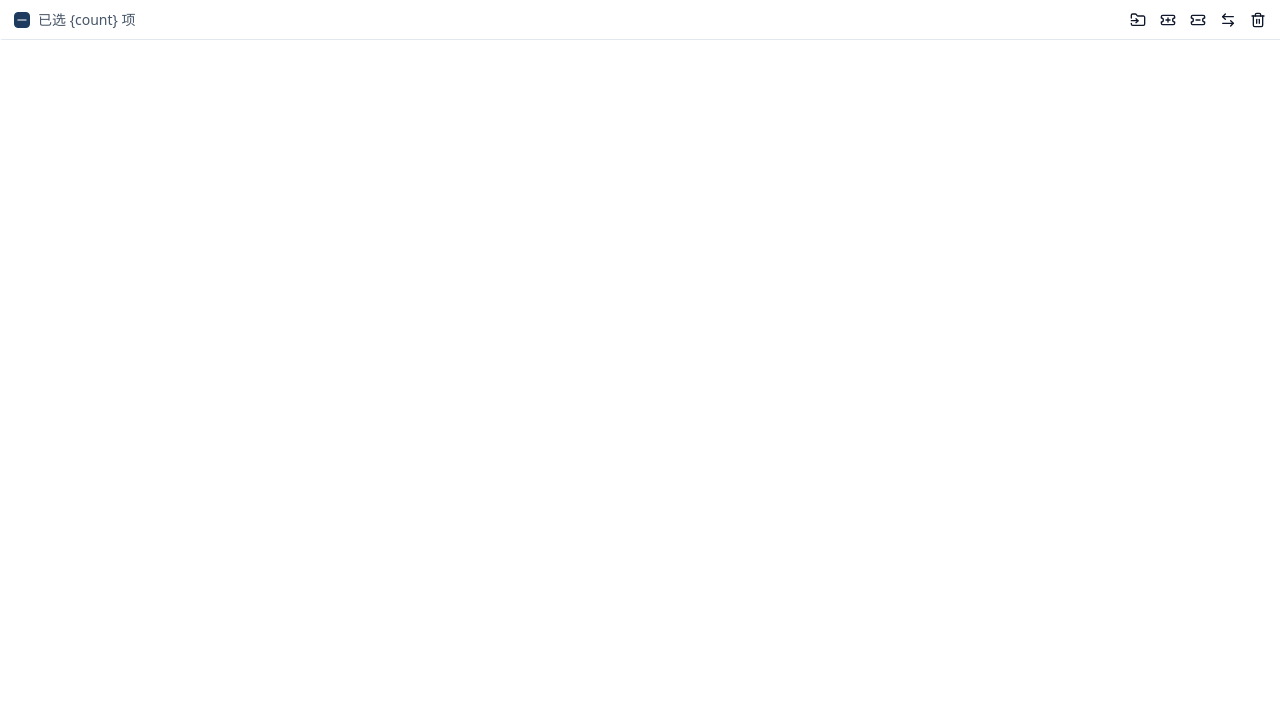
it: 批量删除确认 › 点取消或按 Esc 关闭确认框, 条目与勾选都保留
Click the button named "删除选中的条目": (1258, 20) [1244,6,1272,34]
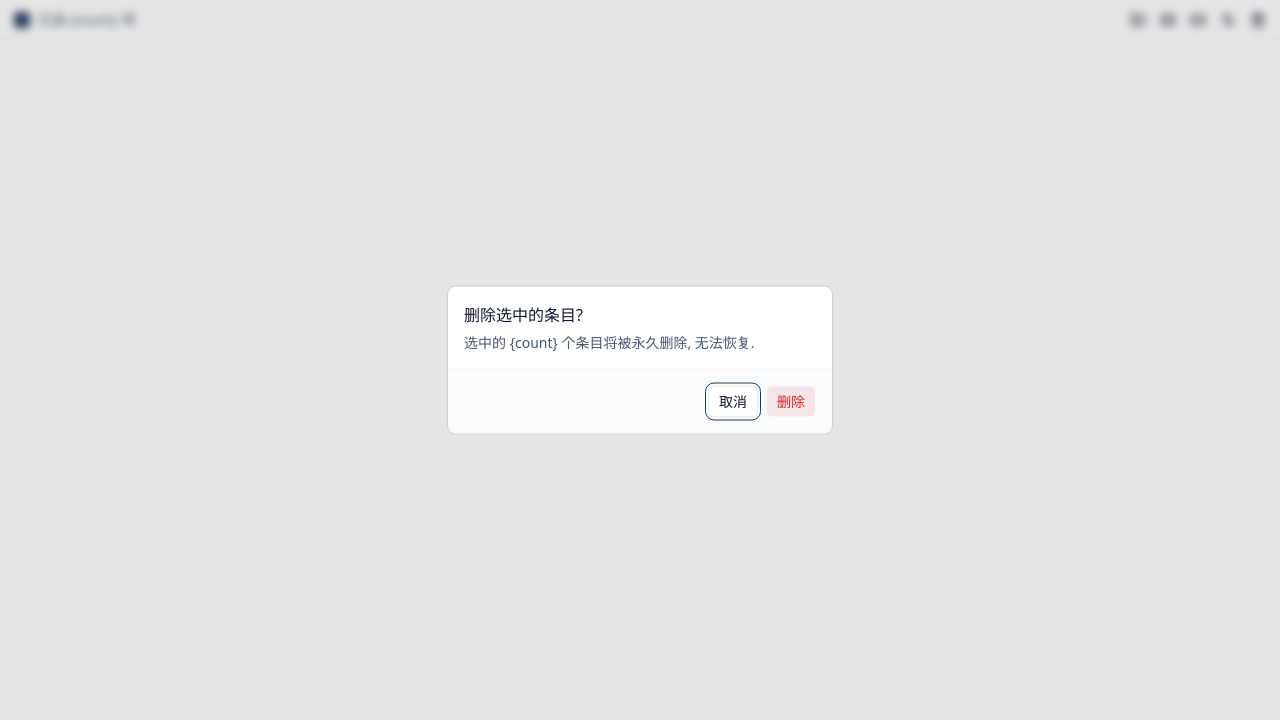
Click the button "取消": (733, 402) [708,386,758,418]
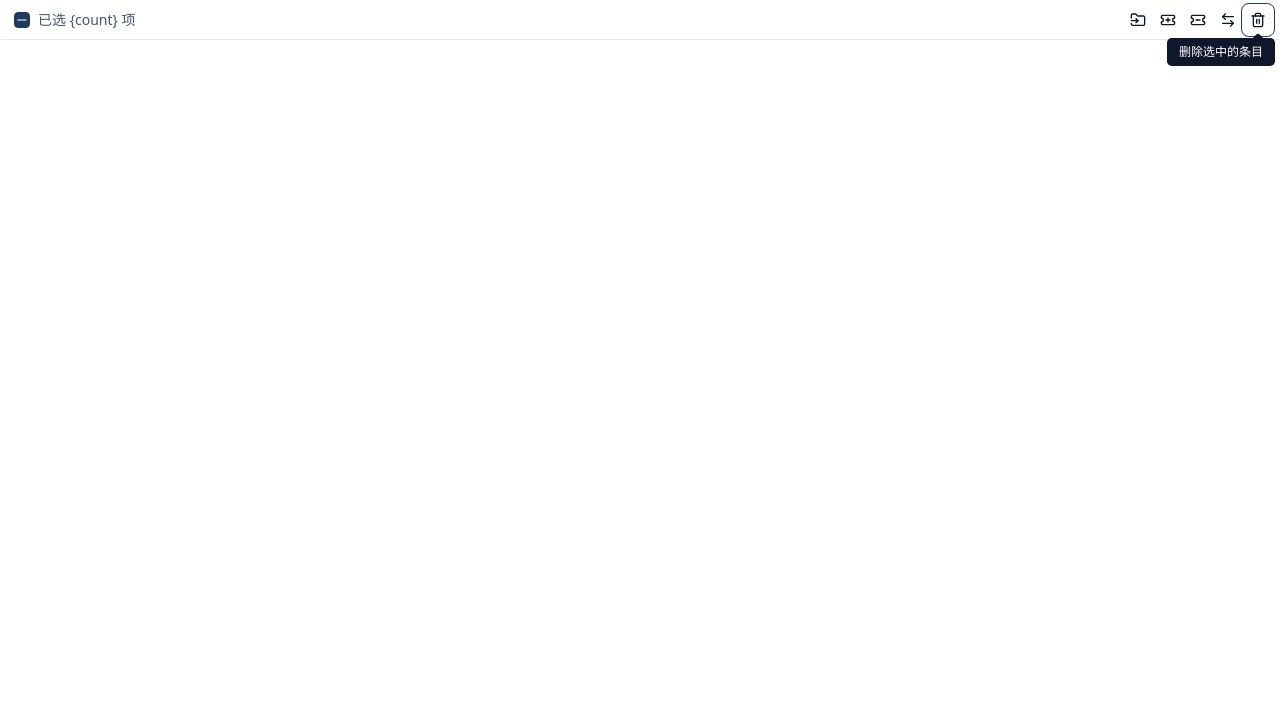
Now the dialog is gone
Click the button named "删除选中的条目": (1258, 20) [1244,6,1272,34]
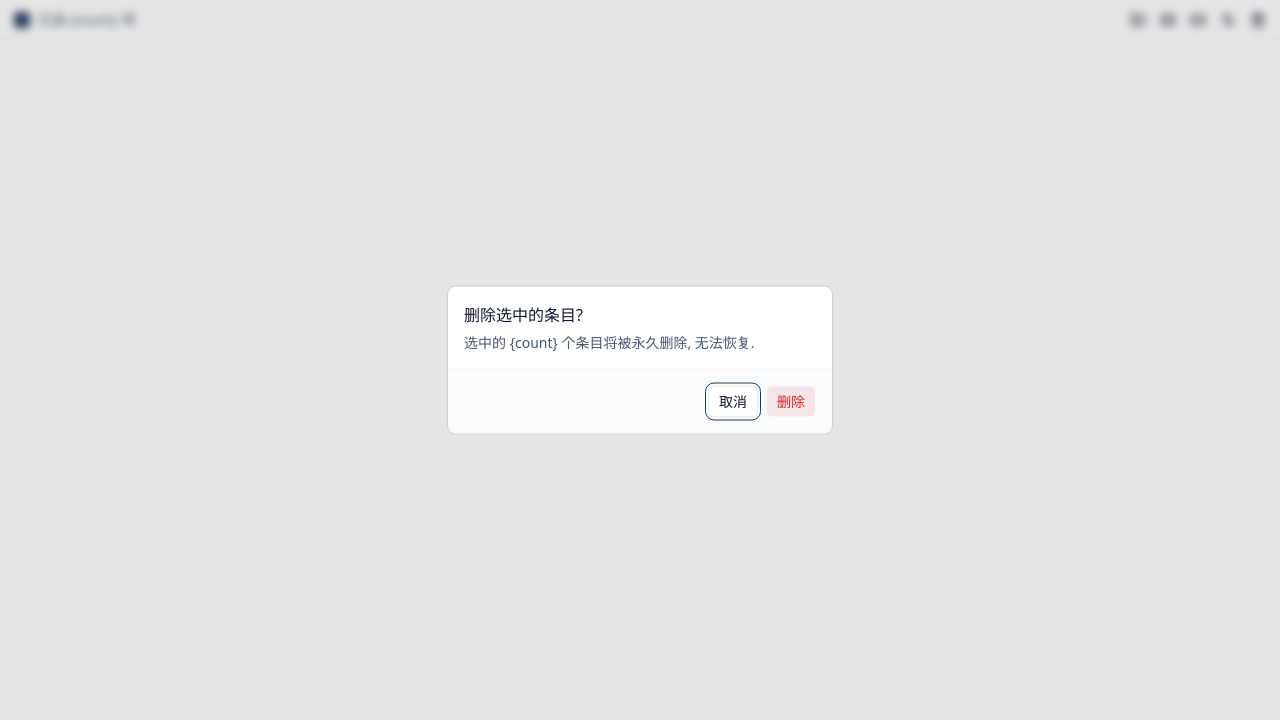
Press Escape
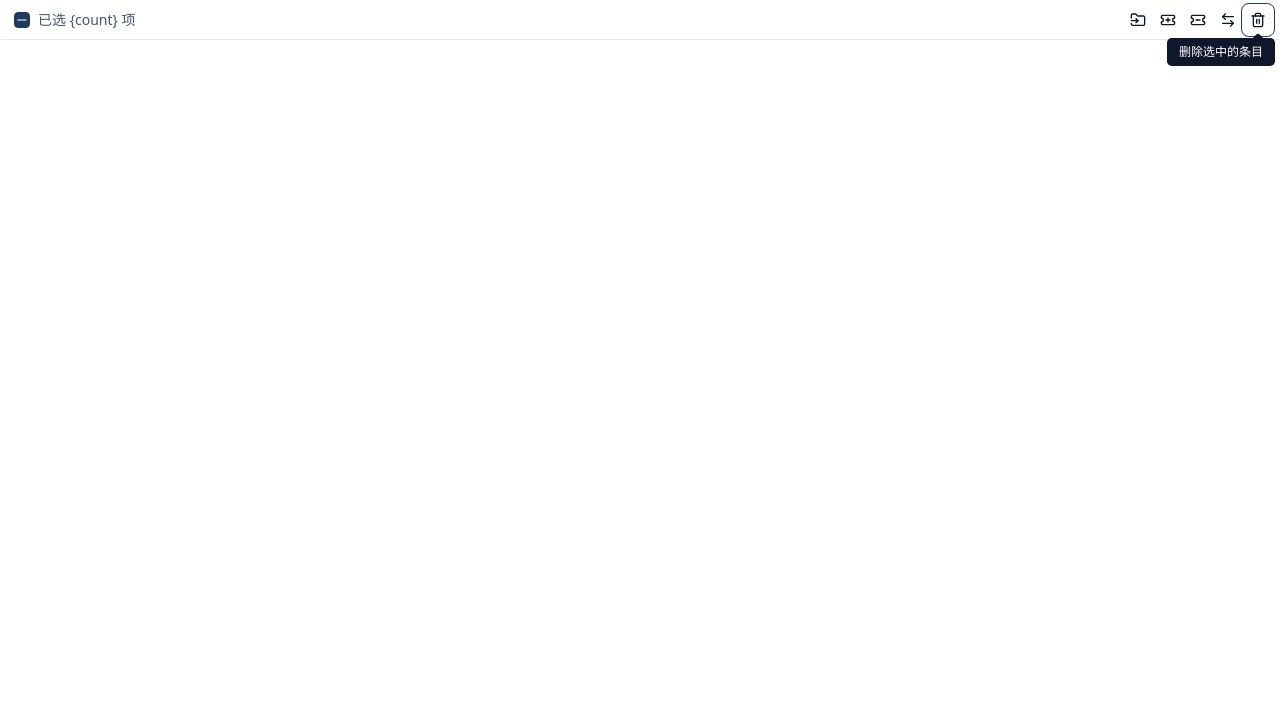
Now the dialog is gone
